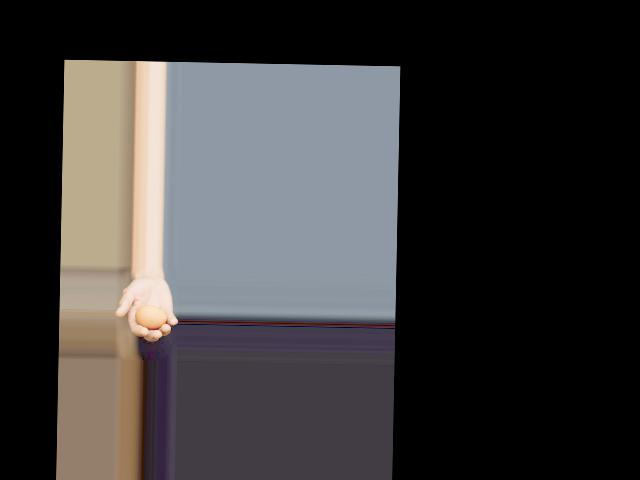egg: (135, 305, 168, 328)
